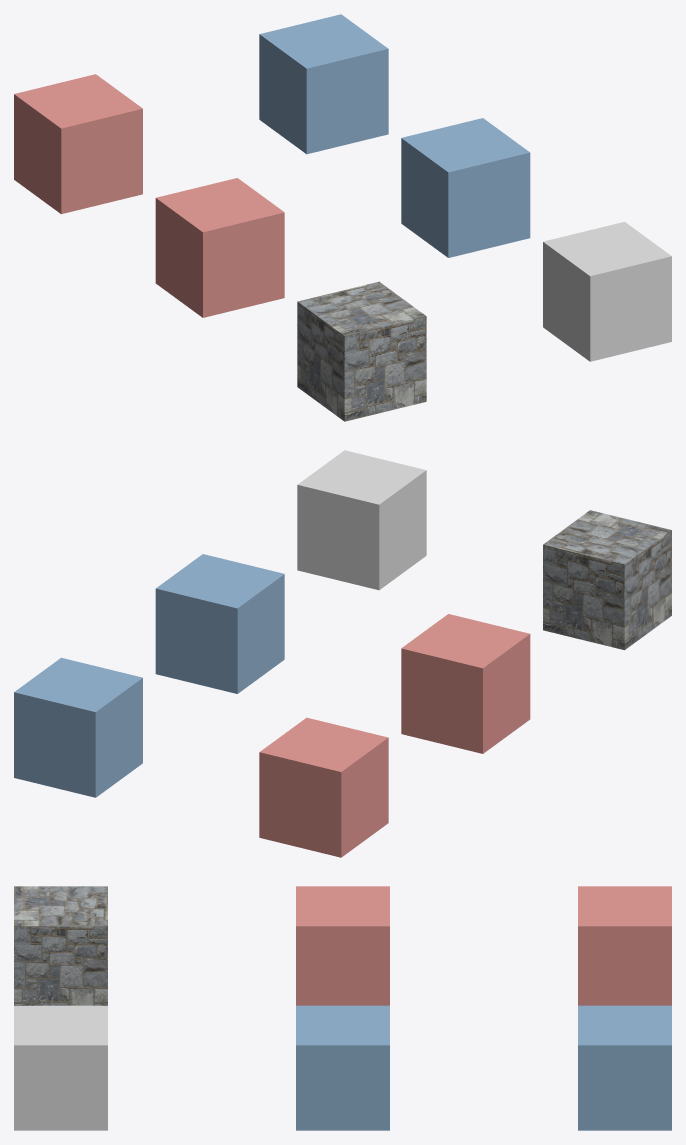
File: Test_ModelLoader_Materials.FBX
3 views of the same model, one above another, from view 1: azimuth 30°, elevation 25°; view 2: azimuth 150°, elevation 25°; view 3: azimuth 270°, elevation 25° (orthographic).
Parts seen in each view (by area): view 1: MergedSubMtl01, SubMtl02, SubMtl01, Textures, NoMtl; view 2: MergedSubMtl01, SubMtl02, SubMtl01, NoMtl, Textures; view 3: MergedSubMtl01, SubMtl02, NoMtl, SubMtl01, Textures.
Boxes of the visible parts, bbox=[...] form: MergedSubMtl01: bbox=[14, 14, 388, 214]; SubMtl02: bbox=[401, 118, 530, 257]; SubMtl01: bbox=[155, 178, 284, 317]; Textures: bbox=[297, 281, 426, 421]; NoMtl: bbox=[543, 221, 671, 361]; MergedSubMtl01: bbox=[14, 657, 388, 857]; SubMtl02: bbox=[155, 554, 284, 693]; SubMtl01: bbox=[401, 614, 530, 753]; NoMtl: bbox=[297, 450, 426, 590]; Textures: bbox=[543, 510, 671, 650]; MergedSubMtl01: bbox=[578, 886, 671, 1130]; SubMtl02: bbox=[296, 1005, 389, 1130]; NoMtl: bbox=[14, 1005, 107, 1130]; SubMtl01: bbox=[296, 886, 389, 1005]; Textures: bbox=[14, 886, 107, 1005].
Size of the model in its own units: 4 by 1 by 7.
3 materials, 1 textured.
